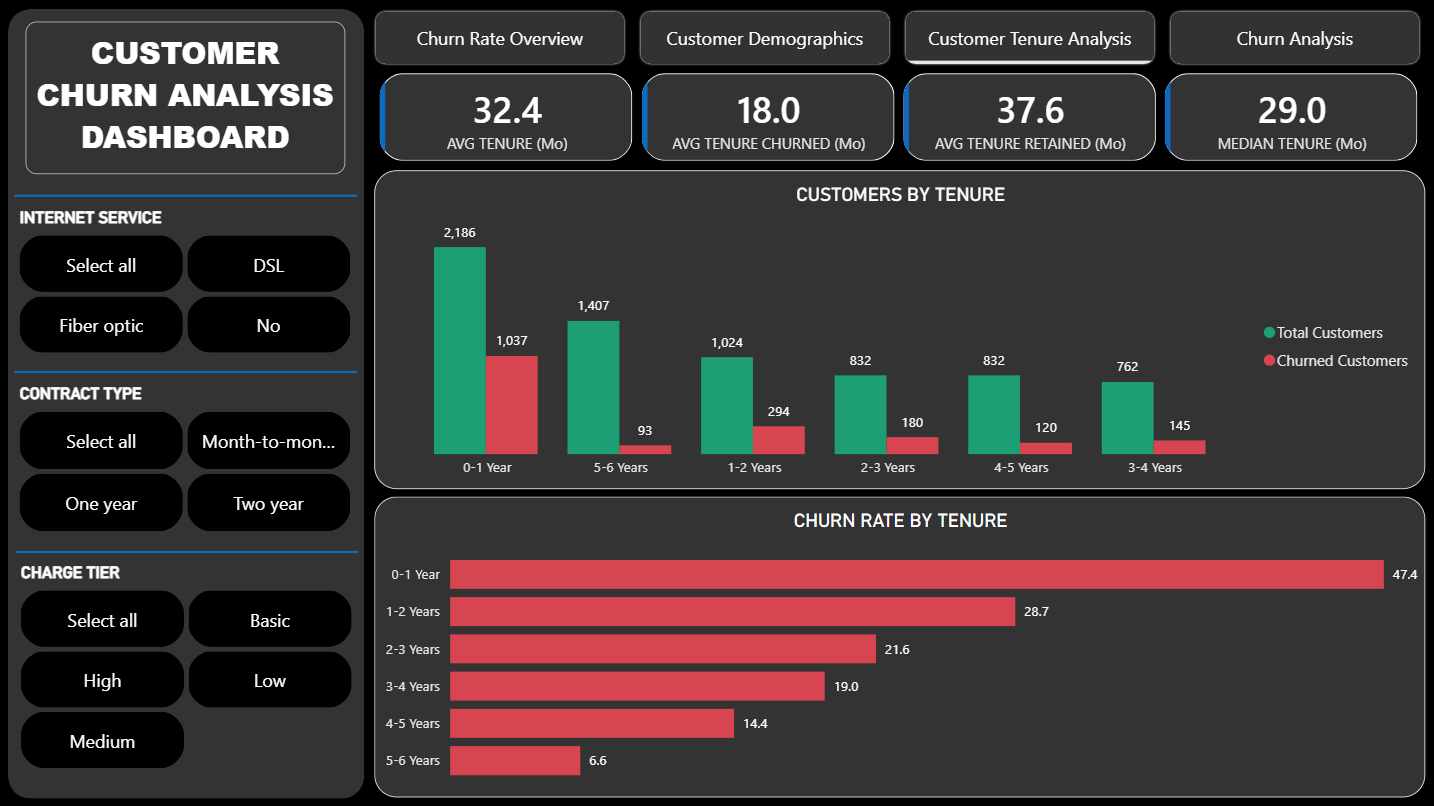

The page's visual inventory and layout, read from the dashboard file:
{"tool":"powerbi","page":{"name":"Customer Tenure Analysis","canvas":[1280,720],"ordinal":2},"visuals":[{"type":"pageNavigator","box":[334.2,8.4,936.2,51.9],"z":0},{"type":"shape","box":[8.4,8.4,317.3,703.4],"z":1000},{"type":"textbox","box":[24.1,20.5,284.7,136.3],"z":6000},{"type":"shape","box":[14.5,148.4,305.2,54.3],"z":7000},{"type":"cardVisual","fields":{"Data":["Avg(TelcoCustomerData.tenure)","TelcoCustomerData.Avg Tenure Churned","TelcoCustomerData.Avg Tenure Retained","Median(TelcoCustomerData.tenure)1"]},"box":[334.6,61.6,937.2,88.2],"z":8000},{"type":"clusteredBarChart","title":"CHURN RATE BY TENURE","fields":{"Category":["TelcoCustomerData.Tenure Buckets"],"Y":["TelcoCustomerData.Churn_Rate"]},"box":[334.6,443.3,936,268.1],"z":9000},{"type":"clusteredColumnChart","title":"CUSTOMERS BY TENURE","fields":{"Category":["TelcoCustomerData.Tenure Buckets"],"Y":["TelcoCustomerData.Total_Customers","TelcoCustomerData.Churned_Customers"]},"box":[334.6,152.2,936,283.8],"z":10000},{"type":"advancedSlicerVisual","title":"INTERNET SERVICE","fields":{"Values":["TelcoCustomerData.InternetService"]},"box":[14.5,185.8,305.2,135.1],"z":10001},{"type":"advancedSlicerVisual","title":"CONTRACT TYPE","fields":{"Values":["TelcoCustomerData.Contract"]},"box":[14.5,342.6,305.2,136.3],"z":10002},{"type":"advancedSlicerVisual","title":"CHARGE TIER","fields":{"Values":["TelcoCustomerData.MonthlyChargeTier"]},"box":[15.7,501.9,305.2,189.4],"z":10003},{"type":"shape","box":[14.5,305.2,305.2,54.3],"z":10004},{"type":"shape","box":[15.7,465.7,305.2,54.3],"z":10005}]}

Visuals, with their boxes in screenshot pixels (x1, y1, x2, y2), scaled from the page's 1280x720 canvas onto the 1434x806 screenshot:
pageNavigator: rect(374, 9, 1423, 68)
shape: rect(9, 9, 365, 797)
textbox: rect(27, 23, 346, 176)
shape: rect(16, 166, 358, 227)
cardVisual - Avg(TelcoCustomerData.tenure) x TelcoCustomerData.Avg Tenure Churned: rect(375, 69, 1425, 168)
"CHURN RATE BY TENURE" clusteredBarChart: rect(375, 496, 1423, 796)
"CUSTOMERS BY TENURE" clusteredColumnChart: rect(375, 170, 1423, 488)
"INTERNET SERVICE" advancedSlicerVisual: rect(16, 208, 358, 359)
"CONTRACT TYPE" advancedSlicerVisual: rect(16, 384, 358, 536)
"CHARGE TIER" advancedSlicerVisual: rect(18, 562, 360, 774)
shape: rect(16, 342, 358, 402)
shape: rect(18, 521, 360, 582)
